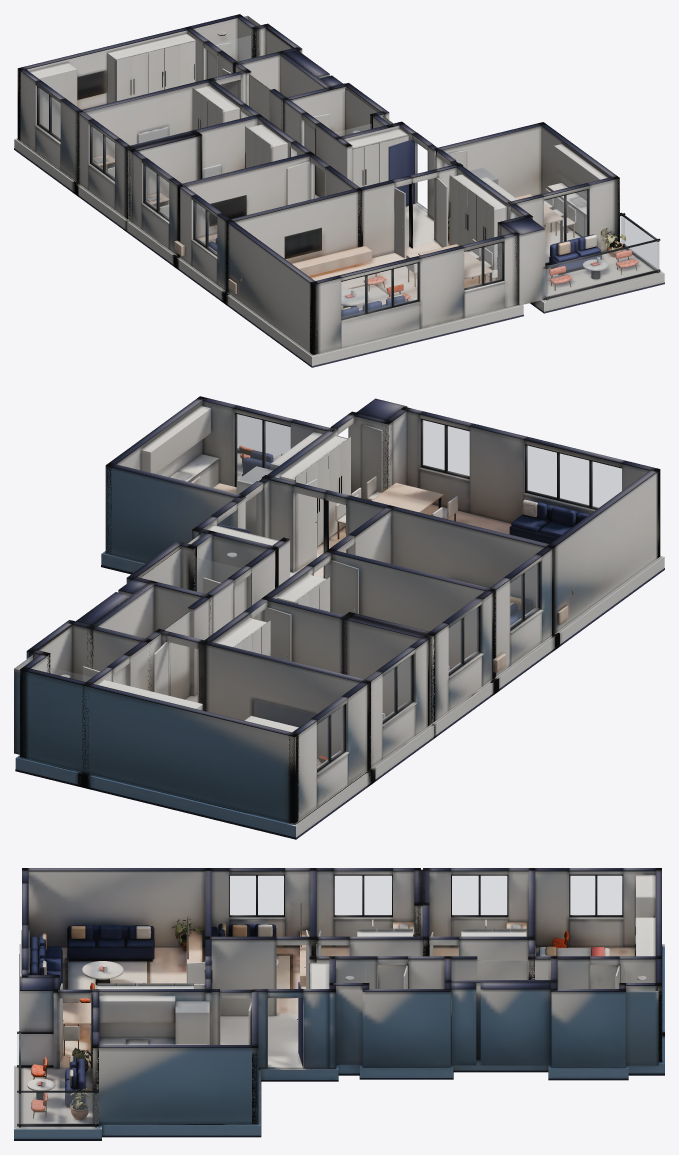
The picture shows the model from 3 angles, top to bottom: view 1: azimuth 30°, elevation 25°; view 2: azimuth 150°, elevation 25°; view 3: azimuth 270°, elevation 25°; orthographic projection. The views are drawn at different scales.
Parts seen in each view (by area): view 1: plan, railg2_m, glass4_m, glass6_m, glass5_m, railg5_m, glass2_m, glass1_m, glass0_m, glass3_m; view 2: plan, glass4_m, glass6_m, glass5_m, railg2_m, glass2_m, glass3_m, glass1_m, glass0_m, sg.003_m; view 3: plan, railg5_m, glass2_m, glass1_m, glass3_m, glass0_m, railg4_m.
Boxes of the visible parts, x1=… form: plan: x1=14, y1=14, x2=664, y2=367; railg2_m: x1=544, y1=241, x2=659, y2=296; glass4_m: x1=341, y1=263, x2=417, y2=318; glass6_m: x1=544, y1=190, x2=587, y2=262; glass5_m: x1=464, y1=243, x2=502, y2=288; railg5_m: x1=621, y1=216, x2=658, y2=270; glass2_m: x1=145, y1=166, x2=168, y2=218; glass1_m: x1=92, y1=127, x2=114, y2=178; glass0_m: x1=39, y1=88, x2=60, y2=138; glass3_m: x1=195, y1=202, x2=216, y2=253; plan: x1=14, y1=396, x2=664, y2=839; glass4_m: x1=527, y1=445, x2=621, y2=507; glass6_m: x1=236, y1=414, x2=290, y2=479; glass5_m: x1=422, y1=420, x2=469, y2=476; railg2_m: x1=238, y1=415, x2=289, y2=456; glass2_m: x1=449, y1=607, x2=478, y2=672; glass3_m: x1=510, y1=563, x2=538, y2=627; glass1_m: x1=383, y1=656, x2=411, y2=720; glass0_m: x1=317, y1=706, x2=343, y2=769; sg.003_m: x1=195, y1=558, x2=240, y2=592; plan: x1=14, y1=868, x2=664, y2=1140; railg5_m: x1=17, y1=1093, x2=98, y2=1123; glass2_m: x1=335, y1=876, x2=391, y2=915; glass1_m: x1=452, y1=876, x2=506, y2=915; glass3_m: x1=230, y1=876, x2=283, y2=915; glass0_m: x1=570, y1=876, x2=621, y2=915; railg4_m: x1=17, y1=1034, x2=53, y2=1064.
Size of the model in its own units: 11.8 by 2.62 by 17.47.
2 materials, 1 textured.
